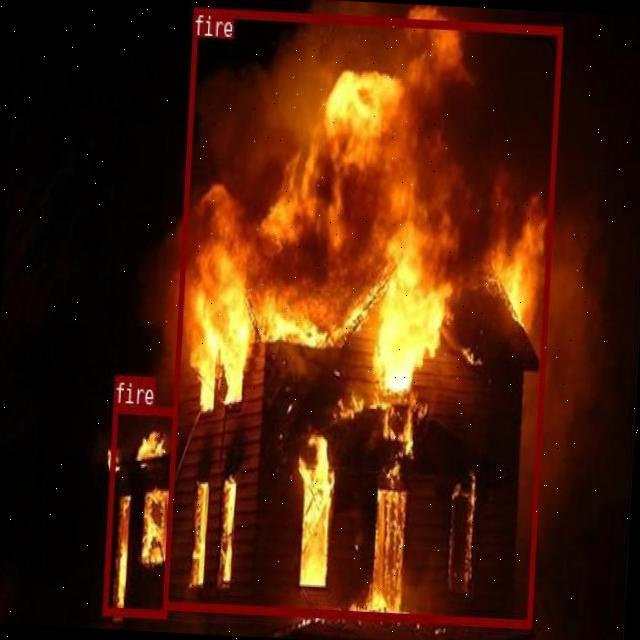fire: (162, 8, 562, 627), (102, 404, 177, 618)
